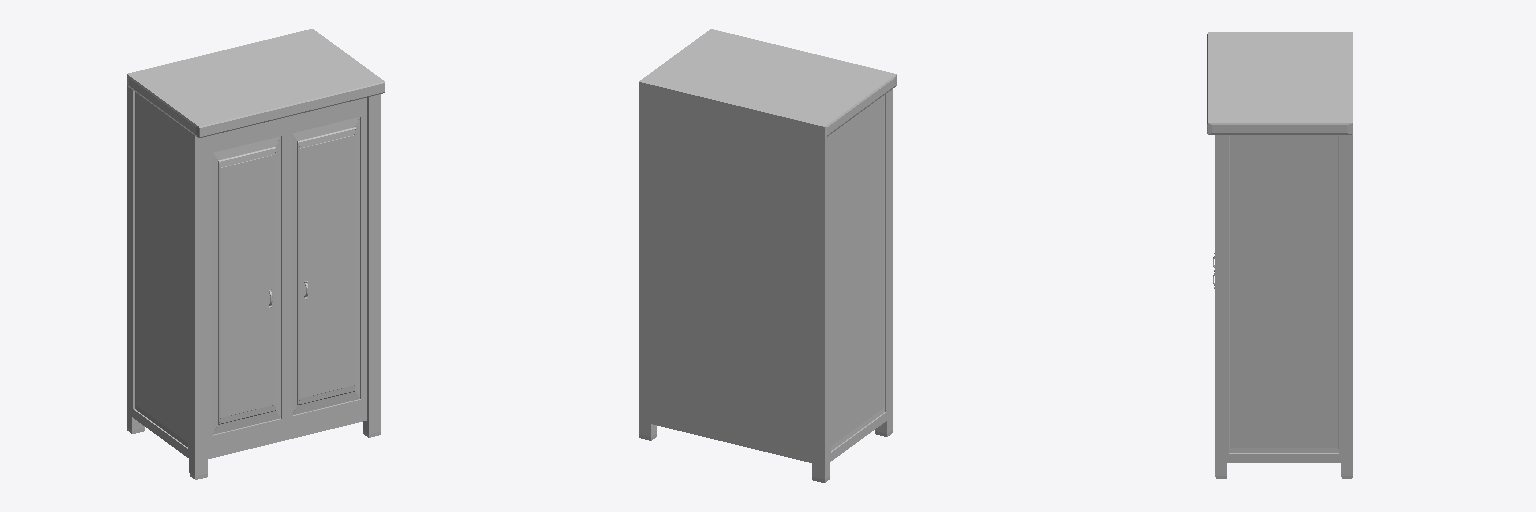
Rendered from wardrobe.obj.
3 renders of one model, left to right at view 1: azimuth 30°, elevation 25°; view 2: azimuth 150°, elevation 25°; view 3: azimuth 270°, elevation 25°, orthographic.
Visible parts, largest first — view 1: Cube.001_Cube.002; view 2: Cube.001_Cube.002; view 3: Cube.001_Cube.002.
Part boxes in pixels (x1,y1,x2,y2): Cube.001_Cube.002: (127, 29, 384, 479); Cube.001_Cube.002: (639, 29, 896, 482); Cube.001_Cube.002: (1207, 32, 1352, 478).
Bounding box in the file's own units: 1.78 × 3.25 × 1.2.